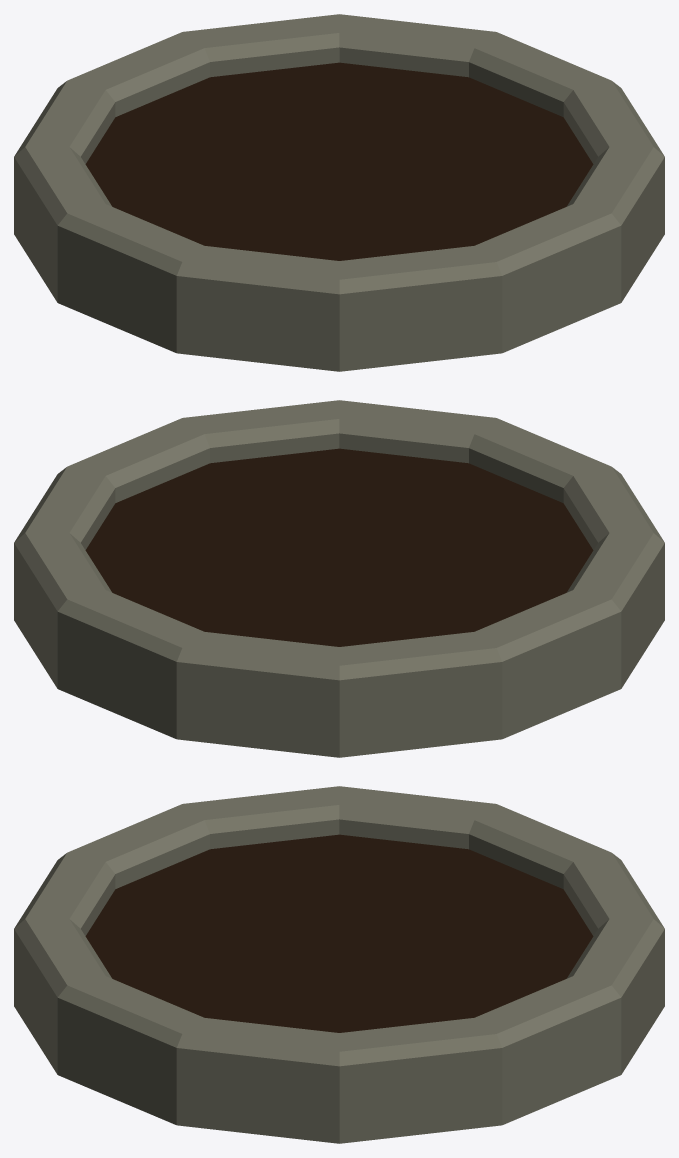
Rendered from FlowersBed.gltf.
3 renders of one model, top to bottom at view 1: azimuth 30°, elevation 25°; view 2: azimuth 150°, elevation 25°; view 3: azimuth 270°, elevation 25°, orthographic.
Visible parts, largest first — view 1: FlowerBed3; view 2: FlowerBed3; view 3: FlowerBed3.
Boxes of the visible parts, box(x1,y1,x2,y2) form: FlowerBed3: box(14, 14, 664, 371); FlowerBed3: box(14, 400, 664, 757); FlowerBed3: box(14, 786, 664, 1143).
Size of the model in its own units: 3.4 by 0.5035 by 3.4.
